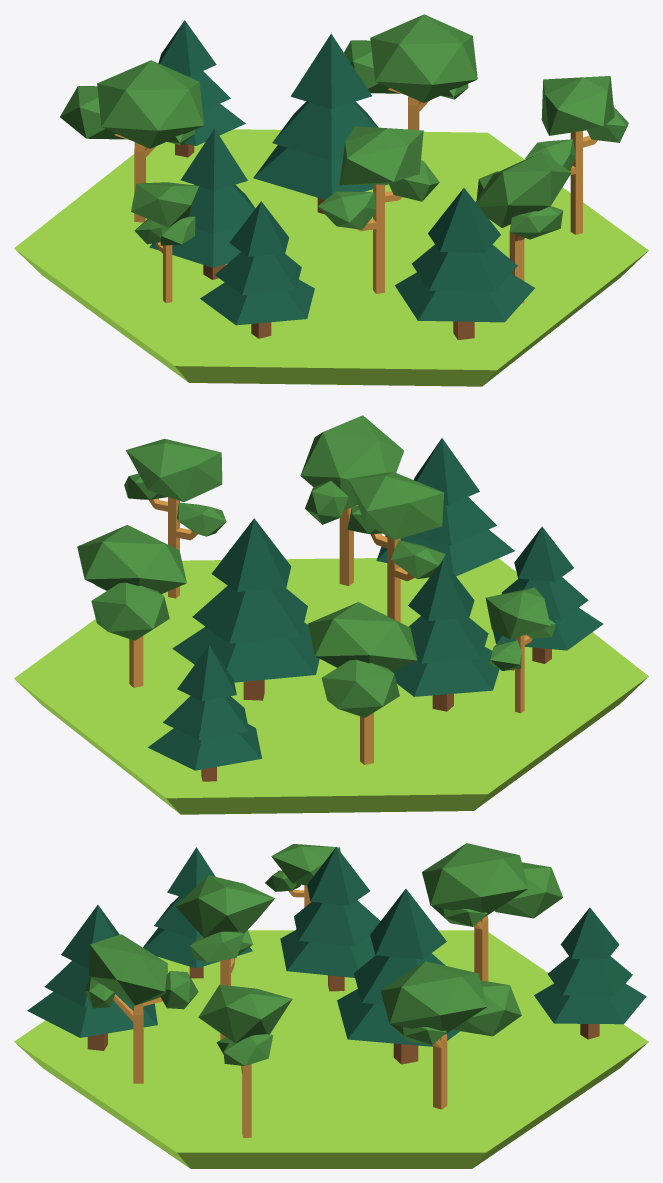
Rendered from G_F_mix.fbx.
3 renders of one model, top to bottom at view 1: azimuth 30°, elevation 25°; view 2: azimuth 150°, elevation 25°; view 3: azimuth 270°, elevation 25°, orthographic. The views are drawn at different scales.
Parts seen in each view (by area): view 1: G_F_mix; view 2: G_F_mix; view 3: G_F_mix.
Part boxes in pixels (x1=…): G_F_mix: x1=14, y1=14, x2=648, y2=386; G_F_mix: x1=14, y1=415, x2=648, y2=814; G_F_mix: x1=14, y1=843, x2=648, y2=1168.
Bounding box in the file's own units: 3268 × 1311 × 3822.
